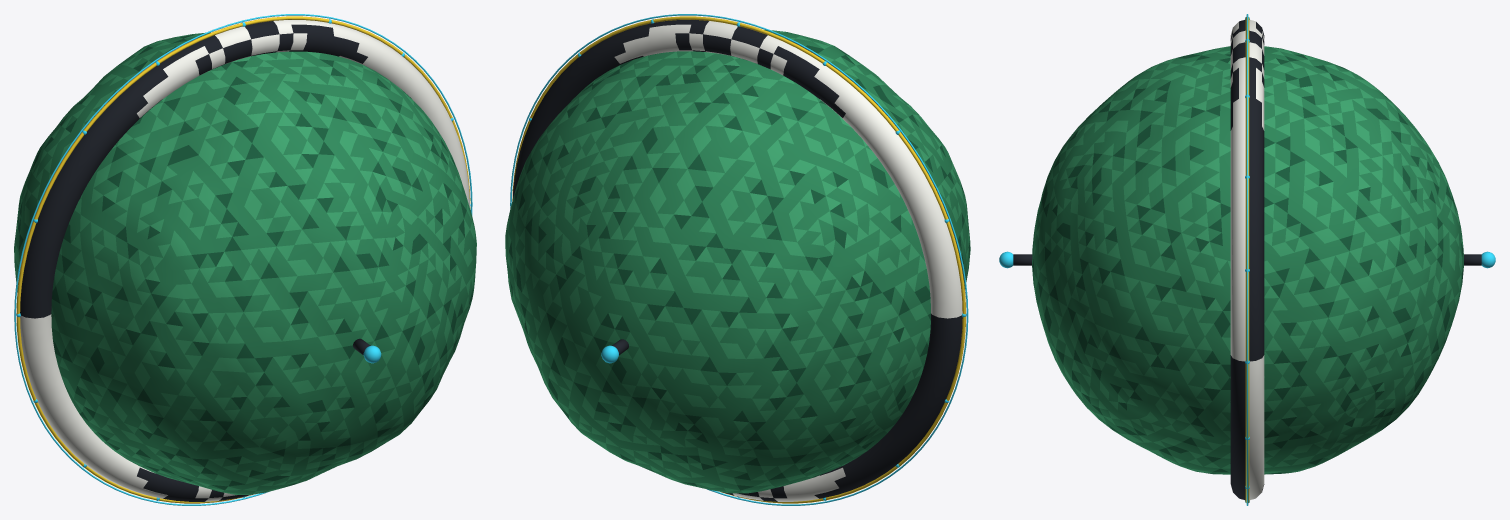
Rendered from planeta_carreras_detallado.obj.
3 views of the same model, side by side, from view 1: azimuth 30°, elevation 25°; view 2: azimuth 150°, elevation 25°; view 3: azimuth 270°, elevation 25° (orthographic). The views are drawn at different scales.
Visible parts, largest first — view 1: Race_Planet_Terrain, Race_Equatorial_Checkered_Track, Race_Outer_Guardrail_N, Race_Energy_Ring; view 2: Race_Planet_Terrain, Race_Equatorial_Checkered_Track, Race_Outer_Guardrail_N, Race_Energy_Ring; view 3: Race_Planet_Terrain, Race_Equatorial_Checkered_Track, Race_Outer_Guardrail_N, Race_Energy_Ring.
Boxes of the visible parts, bbox=[...] form: Race_Planet_Terrain: bbox=[14, 32, 476, 494]; Race_Equatorial_Checkered_Track: bbox=[17, 20, 469, 501]; Race_Outer_Guardrail_N: bbox=[16, 16, 470, 503]; Race_Energy_Ring: bbox=[14, 14, 472, 505]; Race_Planet_Terrain: bbox=[505, 30, 970, 493]; Race_Equatorial_Checkered_Track: bbox=[513, 20, 965, 501]; Race_Outer_Guardrail_N: bbox=[512, 16, 965, 503]; Race_Energy_Ring: bbox=[510, 14, 968, 505]; Race_Planet_Terrain: bbox=[1032, 46, 1463, 474]; Race_Equatorial_Checkered_Track: bbox=[1230, 20, 1264, 500]; Race_Outer_Guardrail_N: bbox=[1245, 17, 1249, 502]; Race_Energy_Ring: bbox=[1246, 14, 1248, 505].
Bounding box in the file's own units: 62.5 × 62.5 × 63.07.
